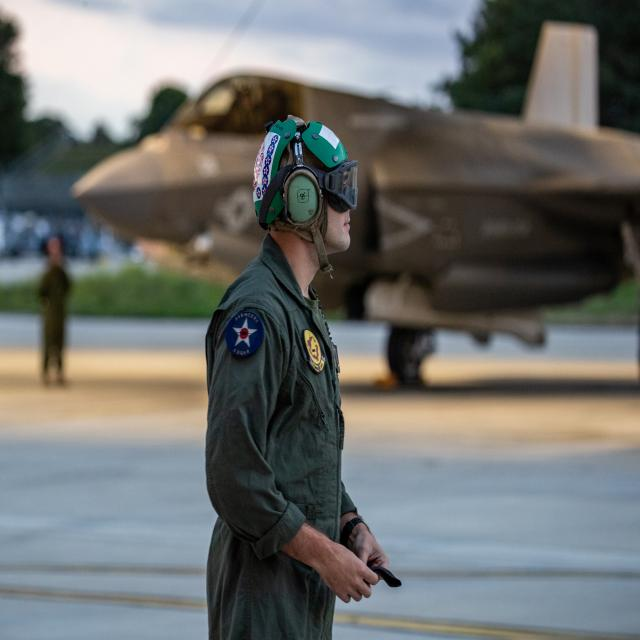MIL_Plane: (67, 20, 640, 388)
